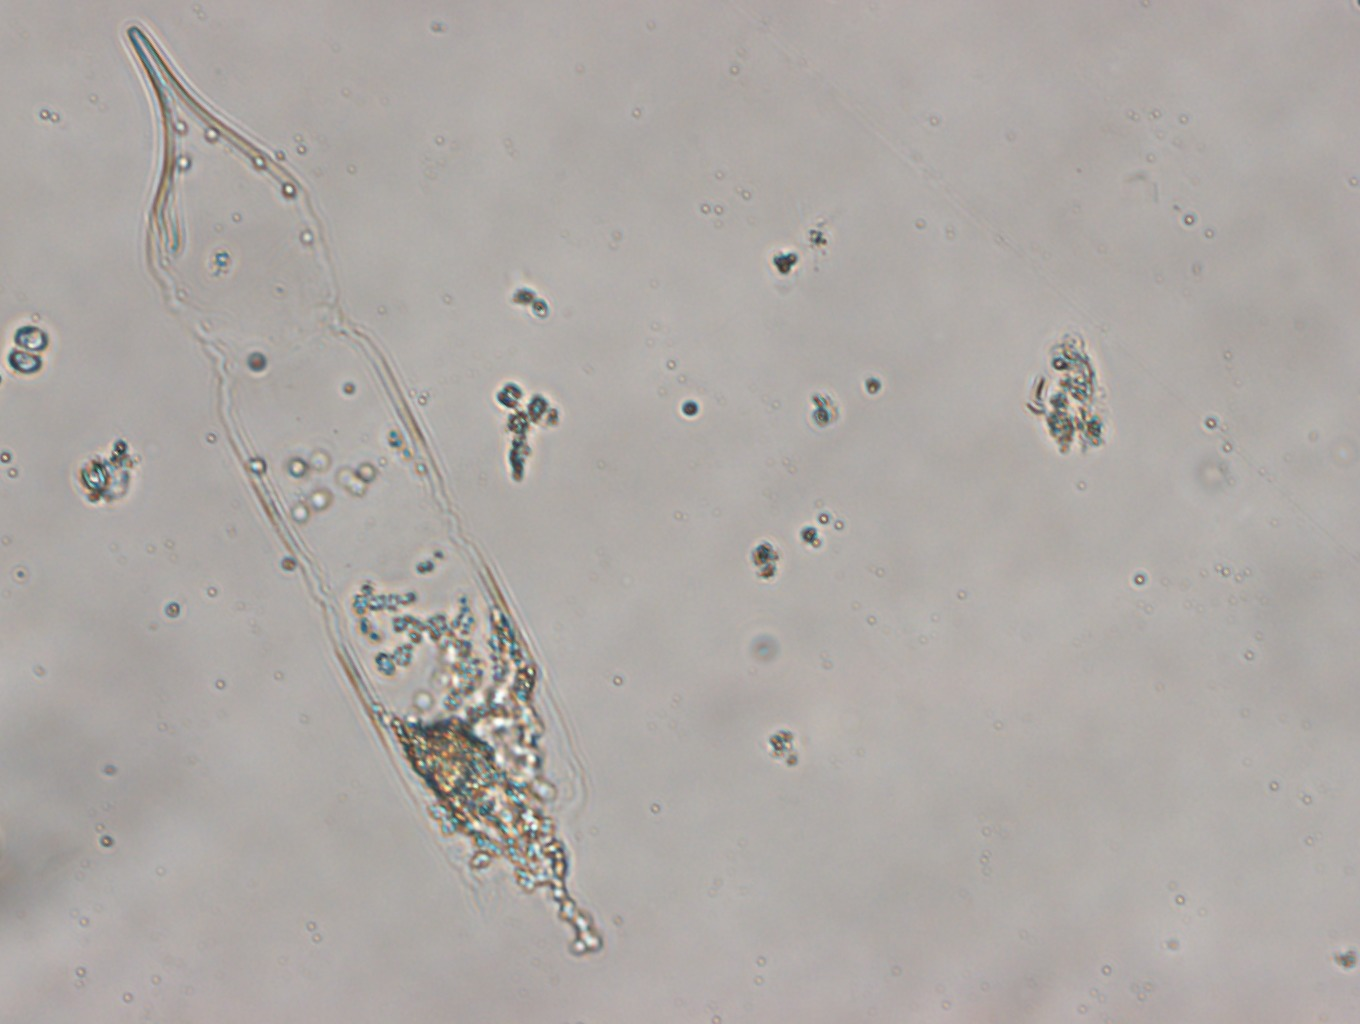rhizosolenia: (121, 18, 607, 959)
